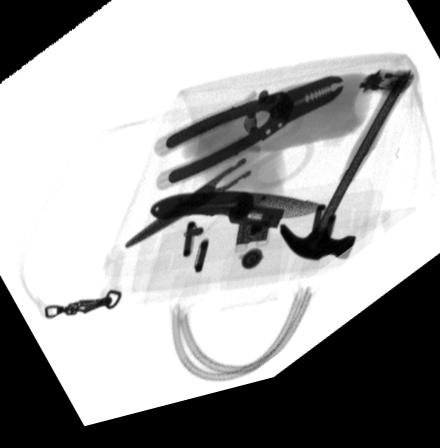Hammer: (278, 91, 417, 278)
Knife: (148, 200, 328, 234)
Pliers: (153, 92, 345, 199)
Scissors: (123, 118, 315, 256)
